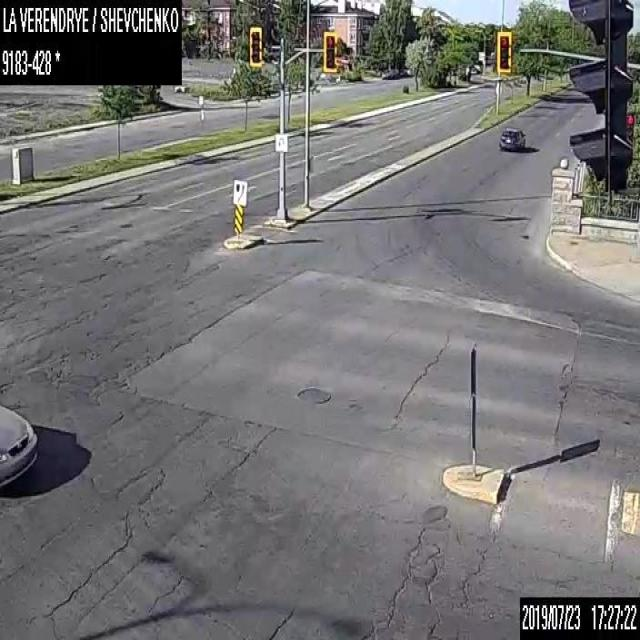vehicle: (0, 401, 40, 495), (498, 124, 526, 152), (381, 68, 392, 78), (391, 68, 399, 77)
